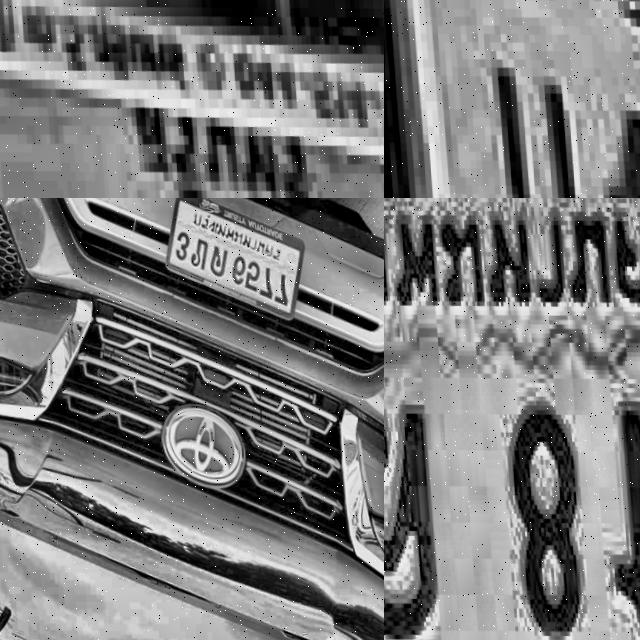license-plate: (384, 198, 640, 640), (0, 0, 384, 198), (384, 0, 640, 198), (156, 198, 311, 321)
